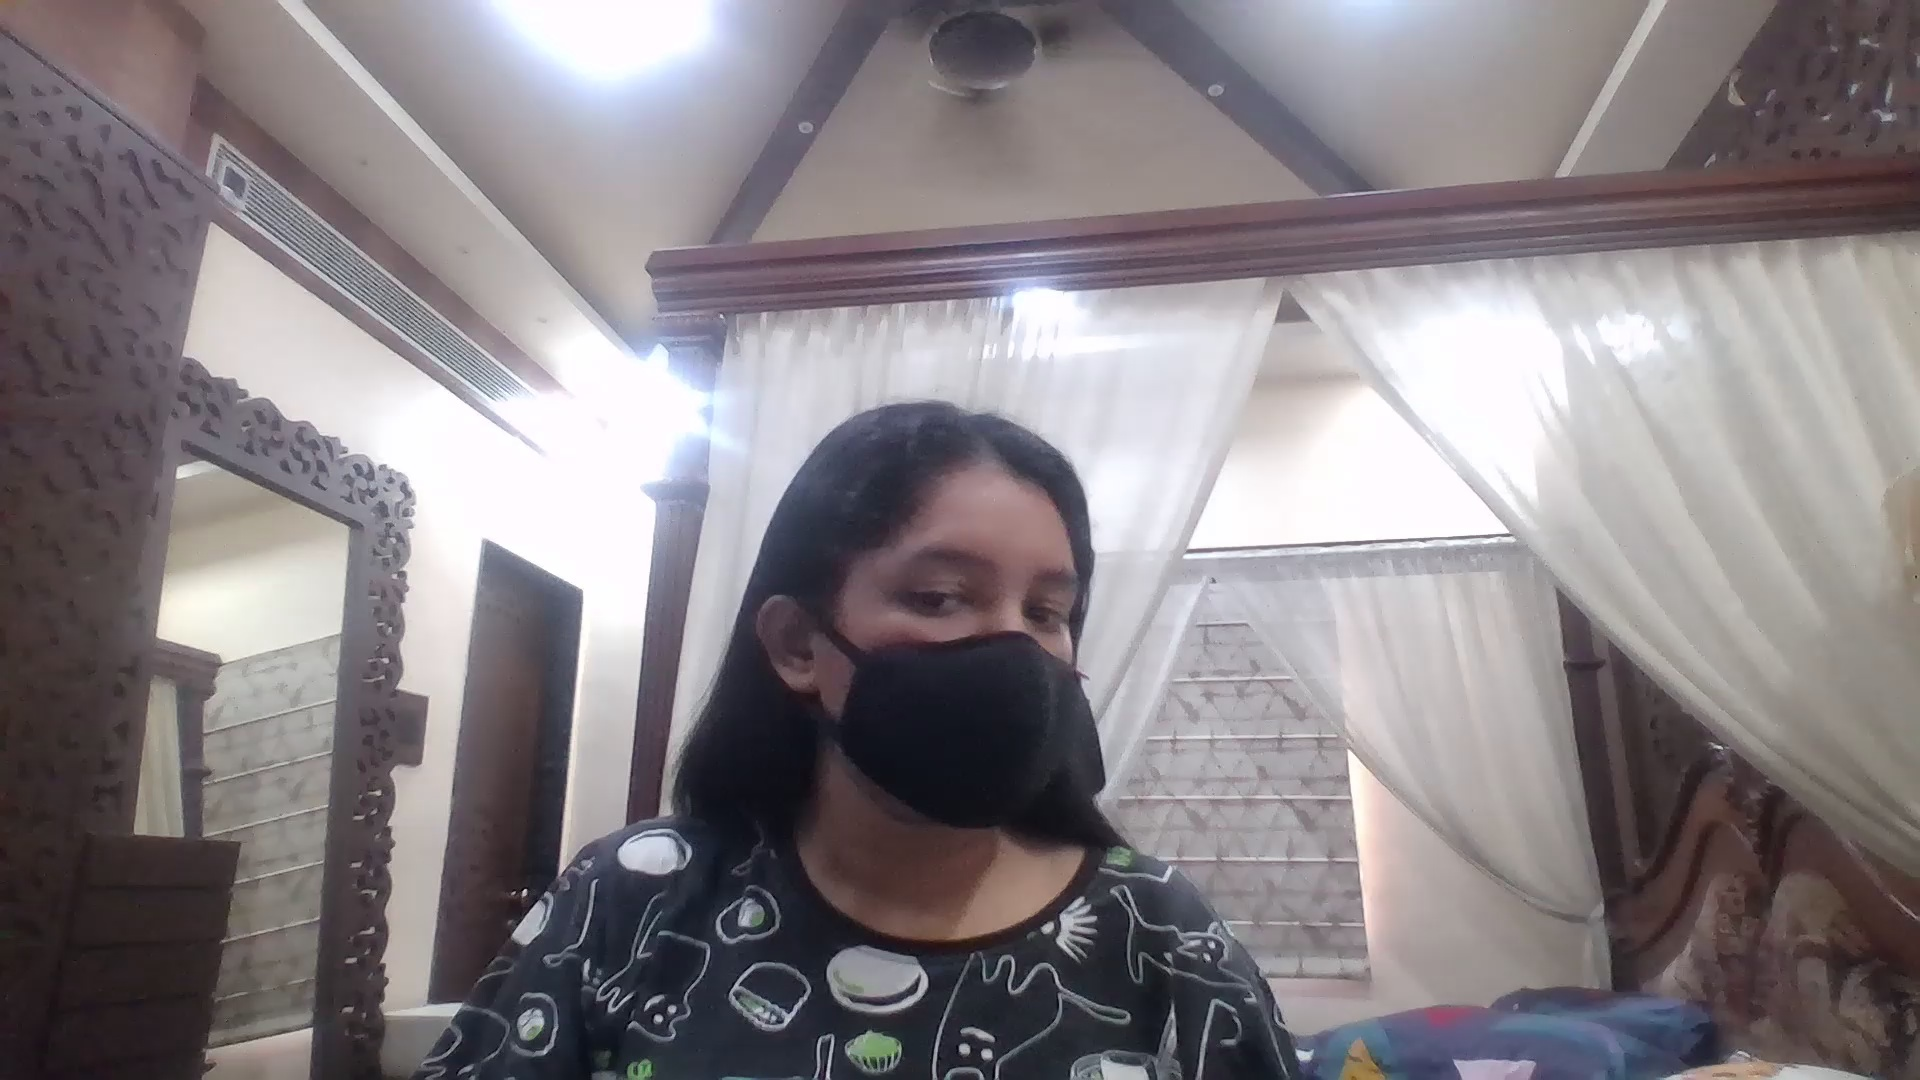Mask: (832, 631, 1081, 820)
